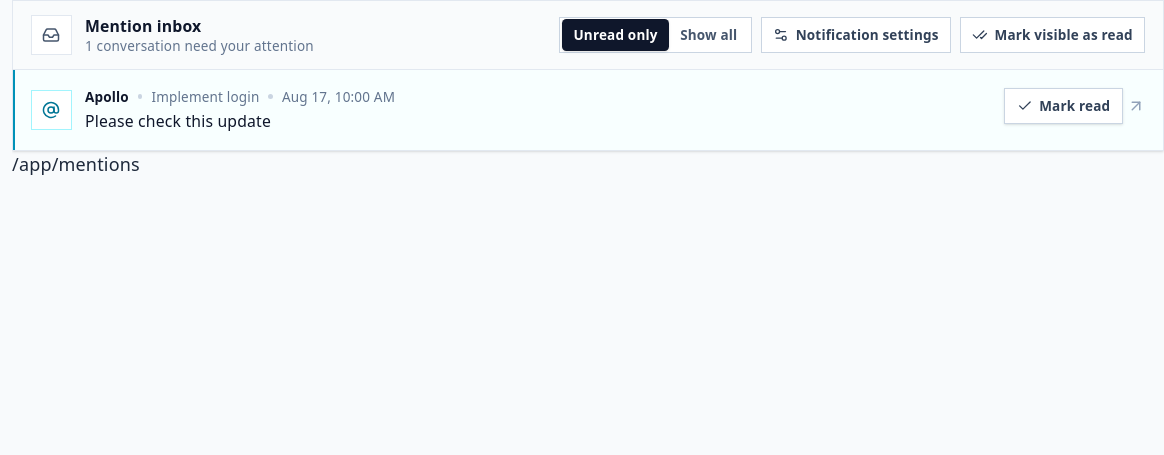
Test: MentionsPage › removes broken mention when comment no longer exists
Click the text "Please check this update": (178, 121) x1=85 y1=110 x2=271 y2=132
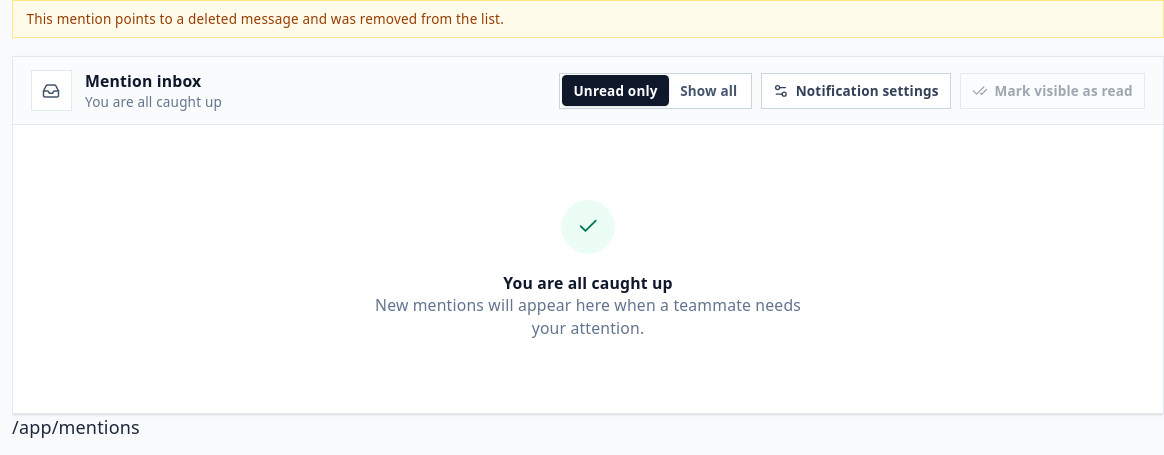
Expected: the text "This mention points to a deleted message and was removed from the list." is shown, x1=12 y1=0 x2=1163 y2=38
Expected: the button "Please check this update" is gone
